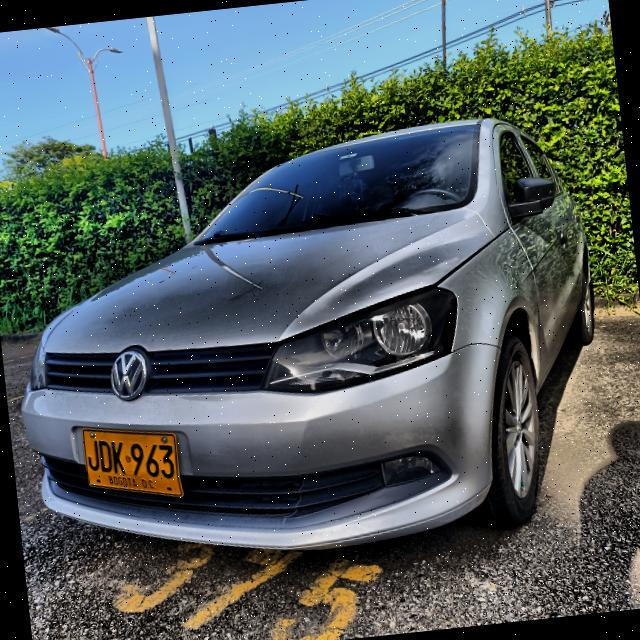3: (158, 442, 176, 480)
6: (145, 442, 161, 478)
9: (129, 441, 145, 476)
D: (98, 439, 112, 473)
J: (85, 439, 100, 472)
K: (110, 440, 129, 475)
